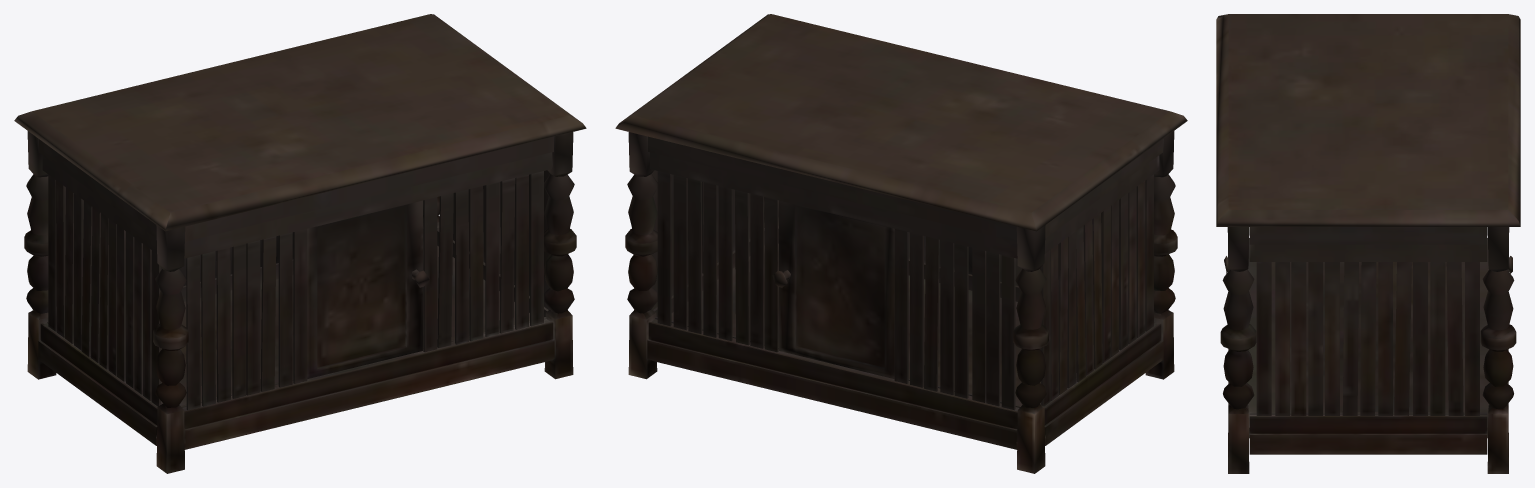
The model's file is gallinera_table.glb.
The picture shows the model from 3 angles, left to right: view 1: azimuth 30°, elevation 25°; view 2: azimuth 150°, elevation 25°; view 3: azimuth 270°, elevation 25°; orthographic projection.
Visible parts, largest first — view 1: gallinera_table; view 2: gallinera_table; view 3: gallinera_table.
Part boxes in pixels (box(x1,y1,x2,y2)): gallinera_table: box(14, 14, 586, 473); gallinera_table: box(615, 14, 1187, 473); gallinera_table: box(1216, 14, 1520, 473).
Size of the model in its own units: 0.8266 by 0.4872 by 0.5132.
1 material, 1 textured.
